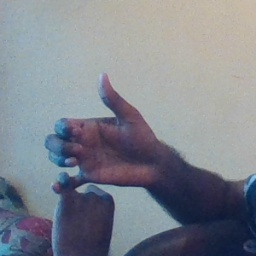S: (40, 71, 149, 229)
